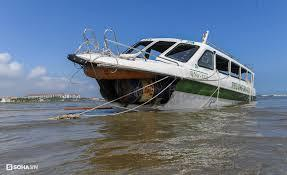Ship: (69, 29, 257, 113)
